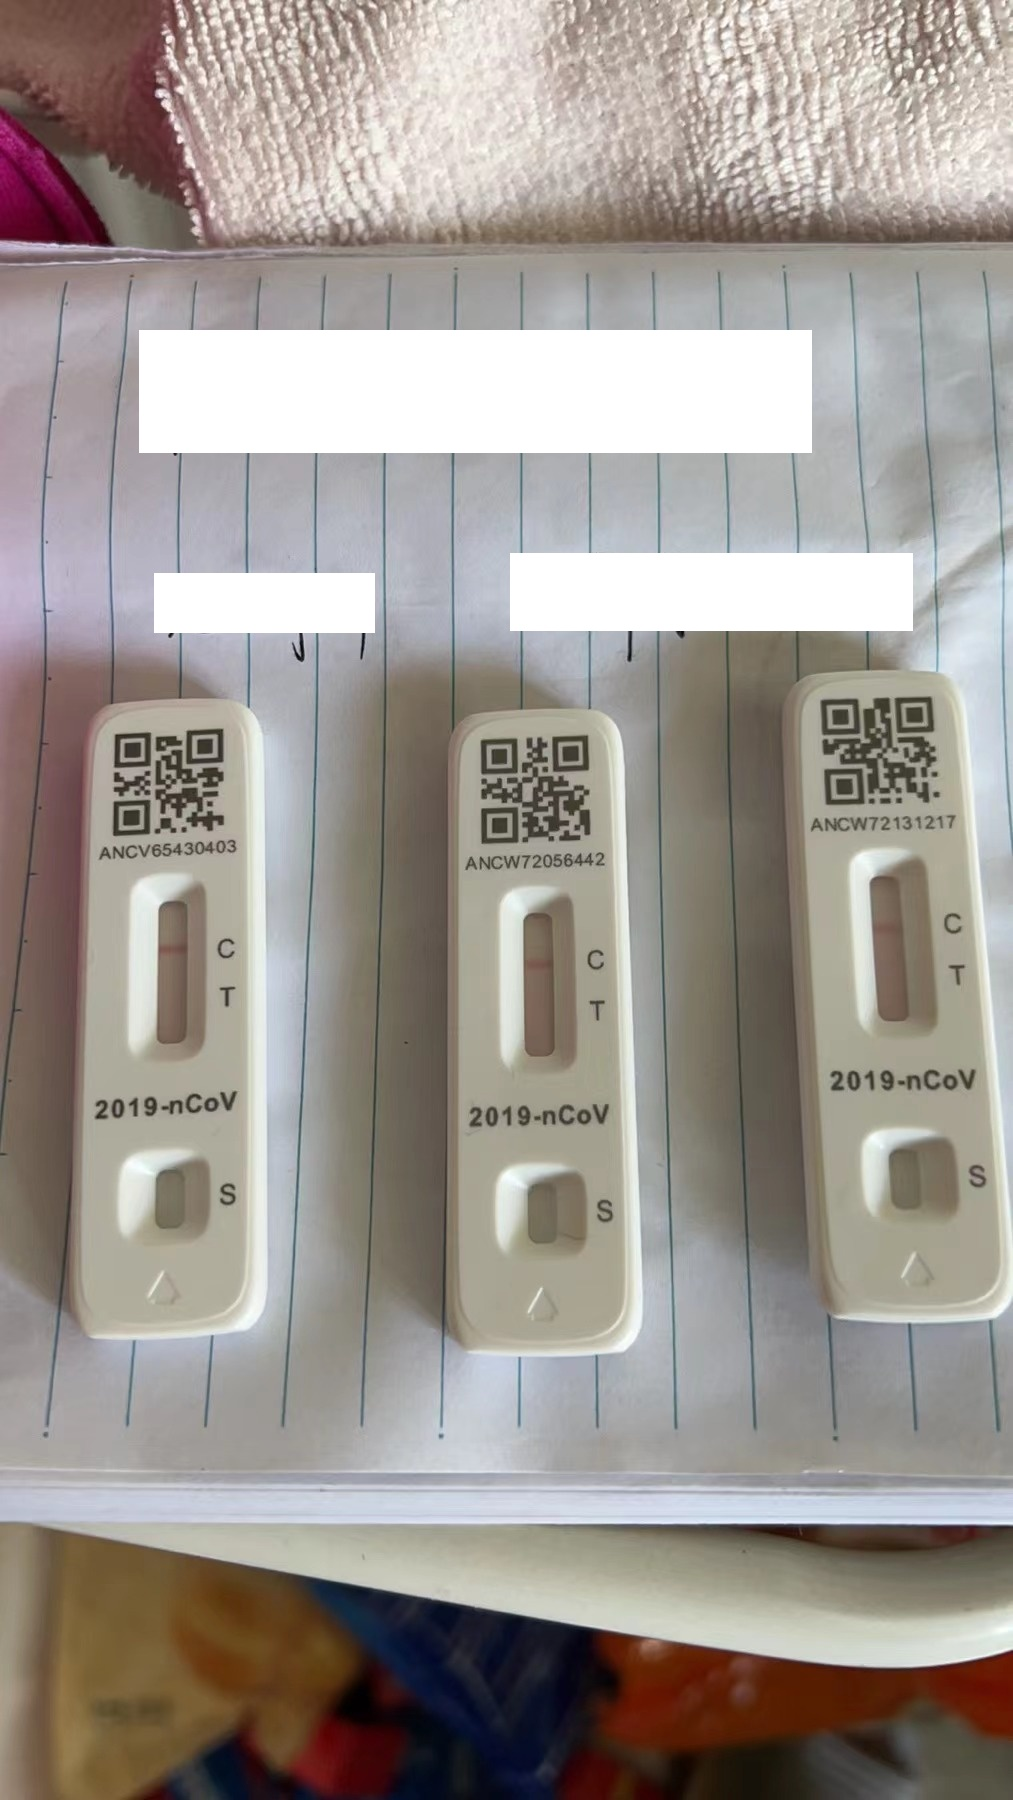negative: (852, 851, 939, 1041), (127, 874, 209, 1067), (498, 886, 578, 1078)
